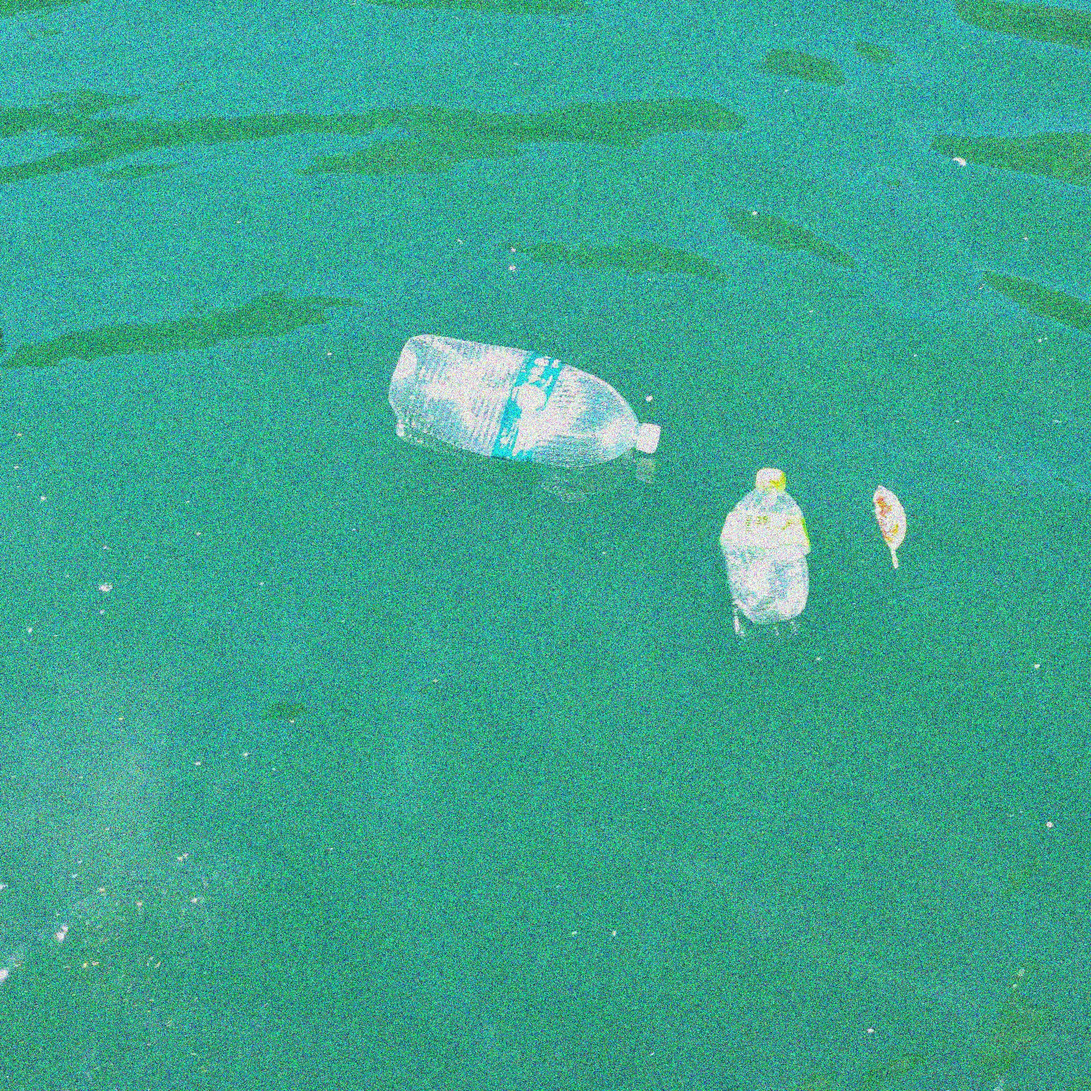sampah_terapung: (388, 334, 661, 468), (720, 468, 811, 625)
